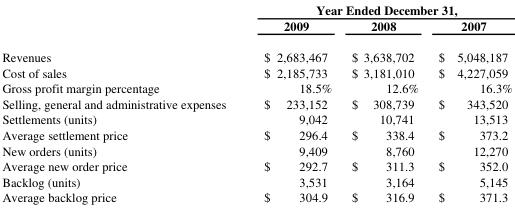table: (1, 1, 511, 204)
table column: (1, 1, 244, 204), (244, 1, 341, 204), (341, 1, 427, 204), (427, 1, 511, 204)
table column header: (1, 1, 511, 41)
table row: (1, 17, 511, 41), (1, 41, 511, 63), (1, 1, 511, 17), (1, 63, 511, 79), (1, 79, 511, 95), (1, 110, 511, 126), (1, 141, 511, 157), (1, 157, 511, 173), (1, 188, 511, 204), (1, 95, 511, 110), (1, 126, 511, 141), (1, 173, 511, 188)
table spanning cell: (244, 1, 511, 17)
